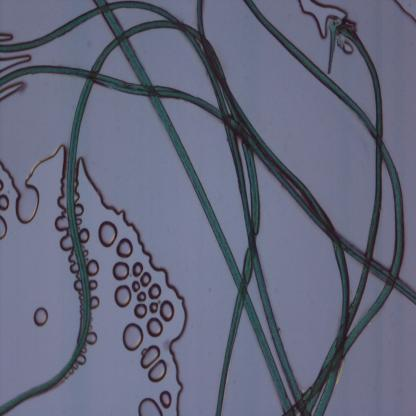Air bubble: (0, 142, 57, 228), (297, 1, 348, 36), (54, 144, 66, 210), (140, 342, 162, 370), (123, 323, 144, 352), (0, 80, 27, 101), (146, 358, 168, 383), (0, 54, 34, 70), (99, 220, 118, 247), (137, 396, 164, 415), (394, 0, 416, 22), (114, 284, 132, 309), (51, 213, 71, 232), (112, 261, 130, 282), (32, 305, 48, 328), (116, 238, 134, 258), (146, 318, 163, 338), (159, 300, 175, 321), (147, 282, 163, 301), (0, 214, 10, 240), (133, 302, 148, 319), (86, 258, 100, 276), (160, 391, 172, 410), (60, 235, 73, 252), (0, 192, 10, 214), (132, 260, 144, 278), (140, 272, 153, 288), (0, 31, 15, 44), (72, 278, 82, 296), (79, 228, 90, 244), (66, 249, 77, 264), (87, 330, 98, 345), (148, 300, 159, 314), (69, 262, 79, 276), (74, 203, 85, 215), (90, 296, 100, 309), (137, 291, 147, 304), (132, 280, 141, 294), (76, 354, 86, 366), (89, 280, 99, 290), (0, 179, 4, 193), (76, 217, 82, 226)
Microfibre: (0, 3, 311, 414), (0, 20, 260, 414), (94, 1, 296, 415), (159, 88, 416, 307), (330, 16, 392, 326), (244, 1, 378, 139), (302, 269, 411, 413), (346, 132, 407, 369)
